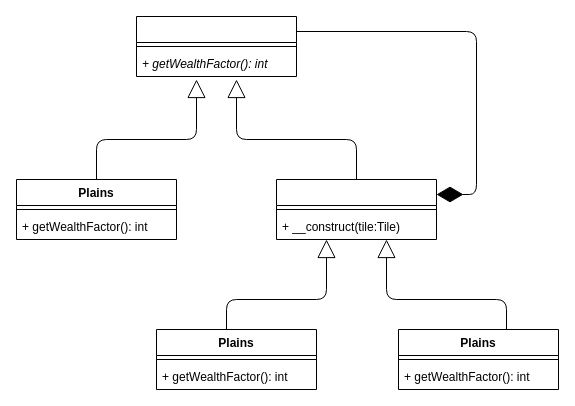
Image size: 575x406. Some labels were removed from this diagram. The shapes that lost their labels are listed below. From the top down, each one's box as (x1, y1, x2, y2) in pixels, then its label:
(136, 16, 296, 76): Tile
(276, 178, 436, 240): TileDecorator
